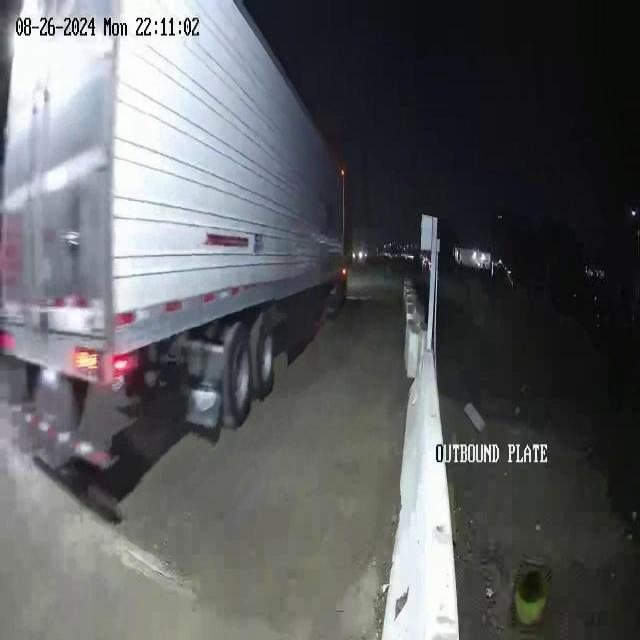TRUCK_IN: (1, 1, 350, 518)
